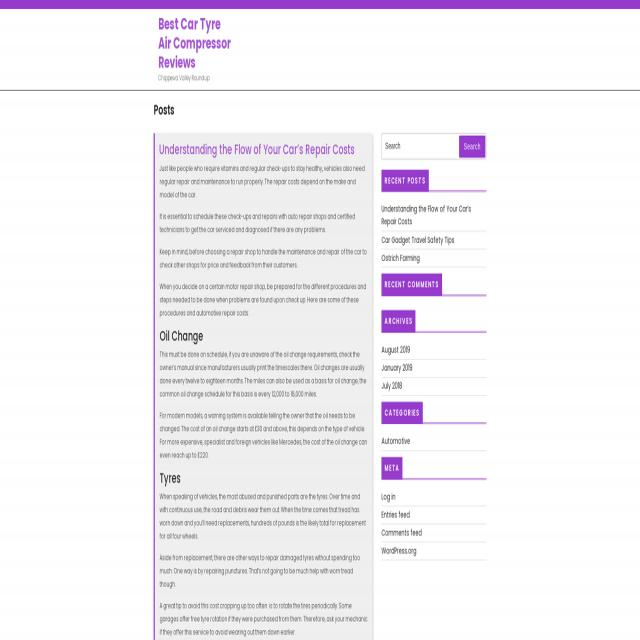button: (459, 136, 485, 157)
field: (382, 134, 486, 160)
